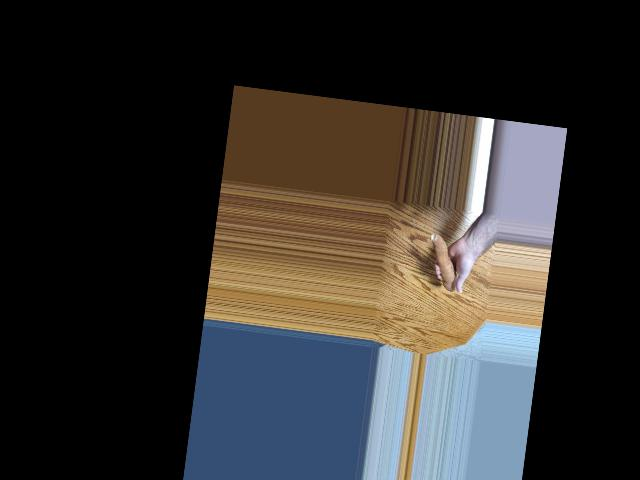sweet_potato: (424, 232, 460, 294)
